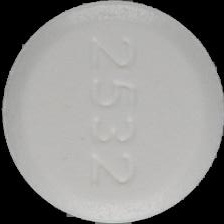0603-2950: (0, 0, 224, 224)
